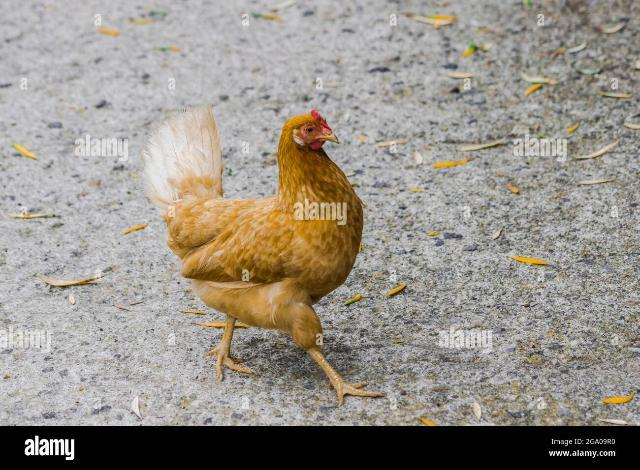Chicken: (142, 106, 383, 403)
